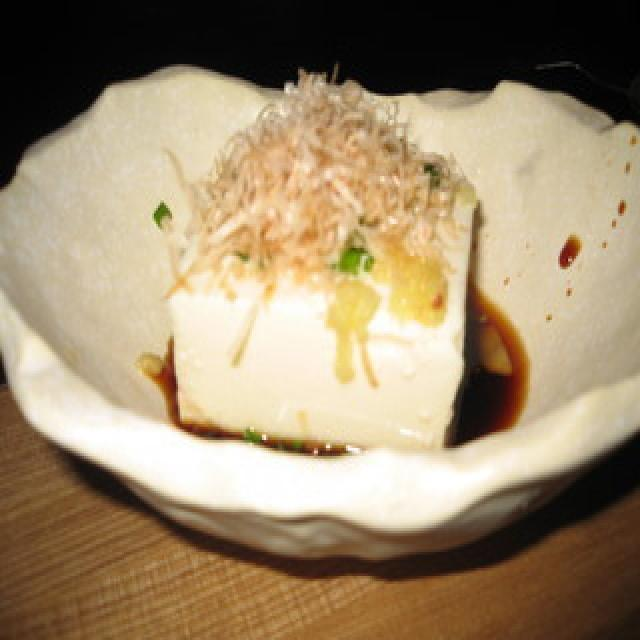豆腐料理: (140, 70, 532, 453)
